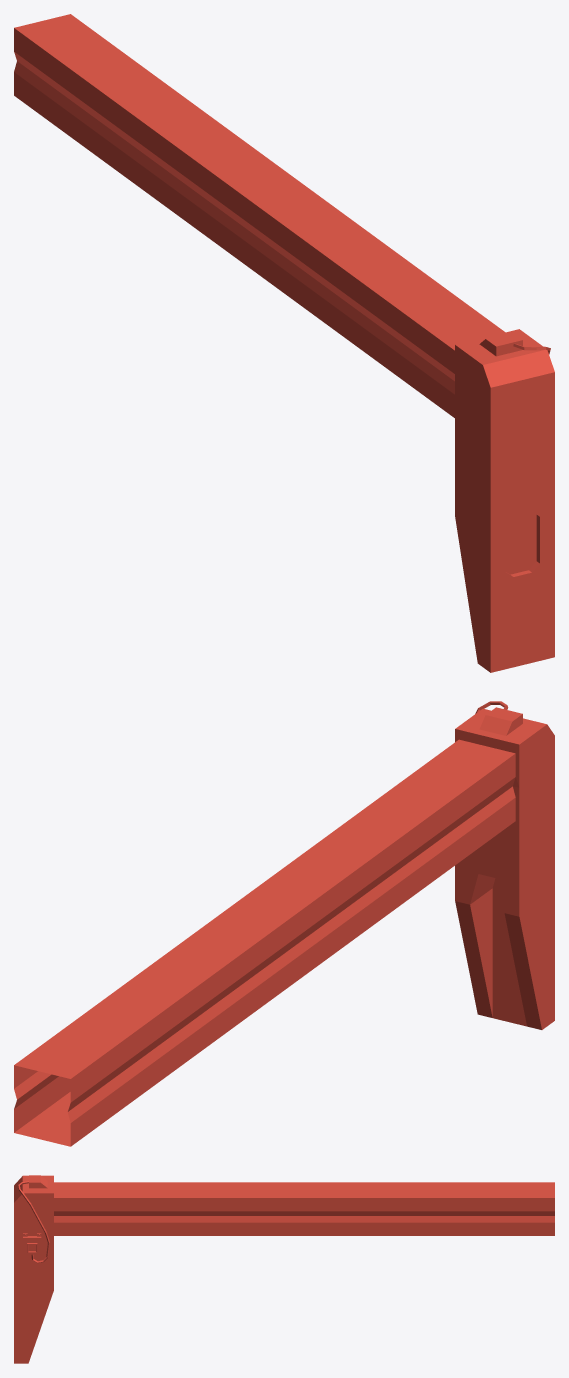
File: SM_Telehandler_Arm_E.fbx
3 views of the same model, one above another, from view 1: azimuth 30°, elevation 25°; view 2: azimuth 150°, elevation 25°; view 3: azimuth 270°, elevation 25° (orthographic). The views are drawn at different scales.
Parts seen in each view (by area): view 1: SM_Telehandler_Arm_E; view 2: SM_Telehandler_Arm_E; view 3: SM_Telehandler_Arm_E.
Boxes of the visible parts, x1=… form: SM_Telehandler_Arm_E: x1=14, y1=14, x2=554, y2=672; SM_Telehandler_Arm_E: x1=14, y1=701, x2=554, y2=1146; SM_Telehandler_Arm_E: x1=14, y1=1175, x2=554, y2=1363.
Size of the model in its own units: 384 by 34.54 by 138.
